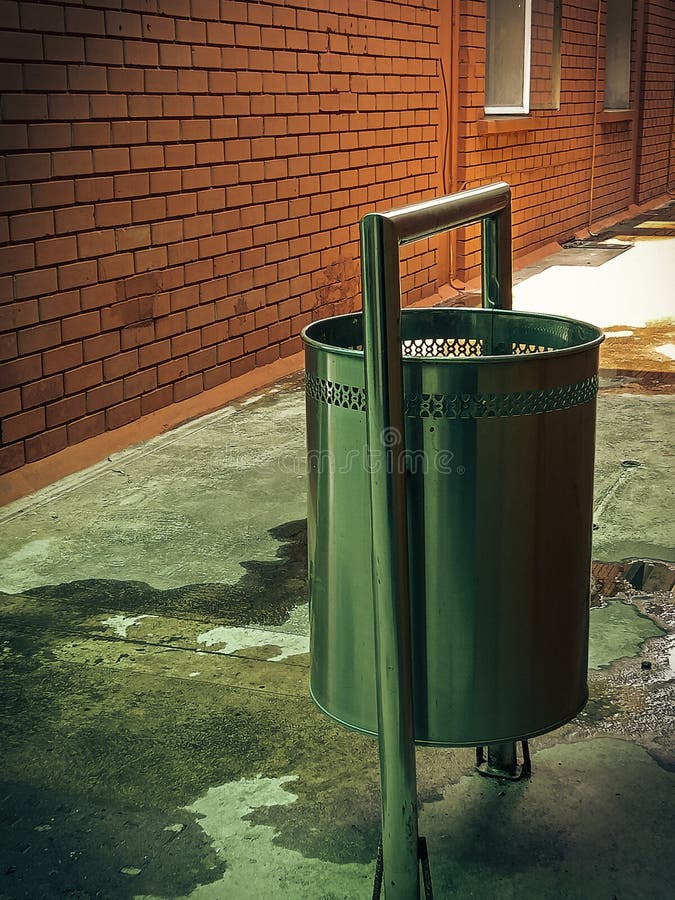empty: (300, 179, 608, 864)
